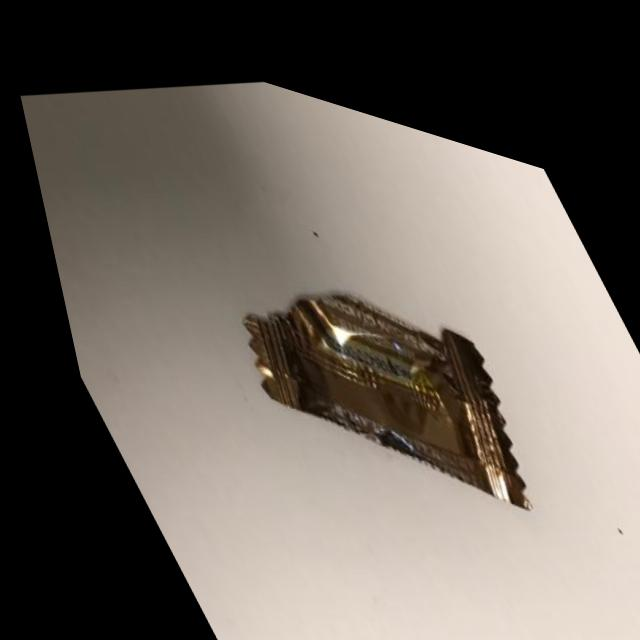trash: (36, 33, 640, 640)
